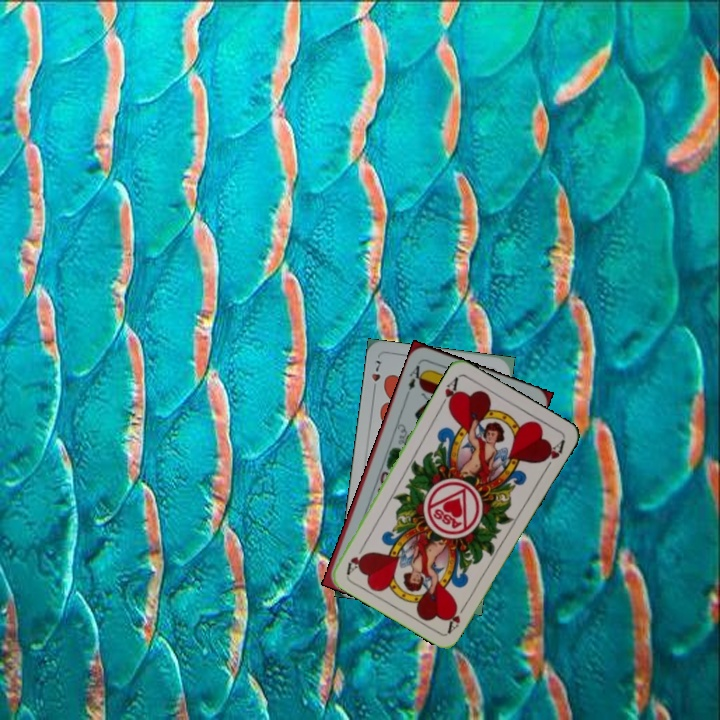EA: (402, 359, 427, 398)
H7: (367, 356, 383, 395)
HA: (444, 598, 470, 635), (436, 373, 461, 411)
